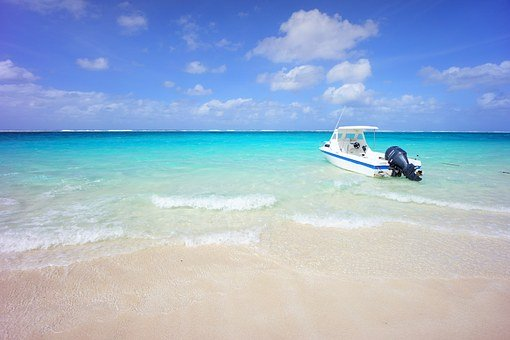beach: (2, 131, 510, 337)
sky: (1, 1, 506, 130)
